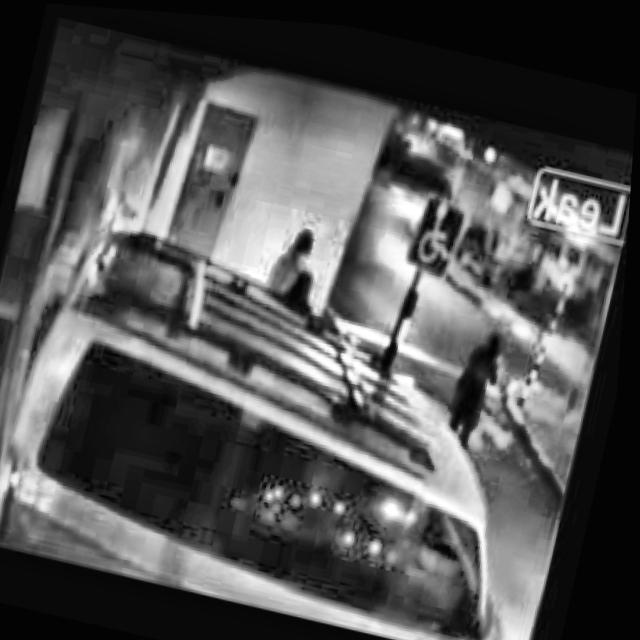burglary: (0, 156, 134, 559)
